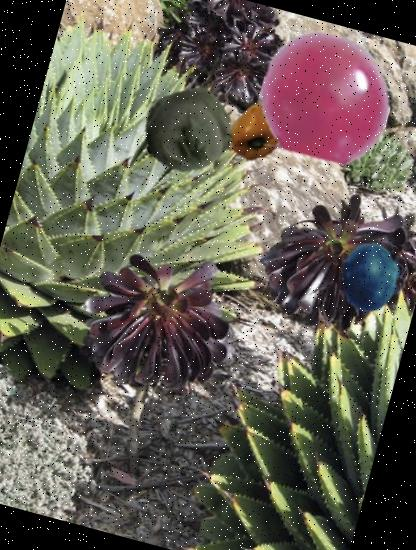Huckleberry: (329, 234, 415, 320)
Kohlrabi: (134, 77, 242, 186)
Pepper: (220, 99, 290, 169)
Redcurrant: (247, 18, 406, 178)
